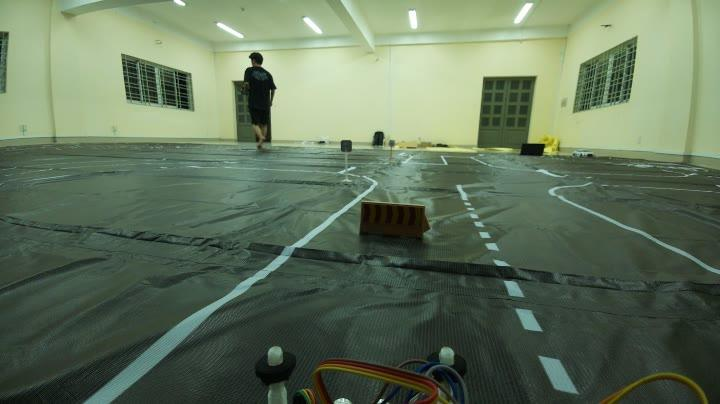roadblock: (357, 196, 432, 246)
